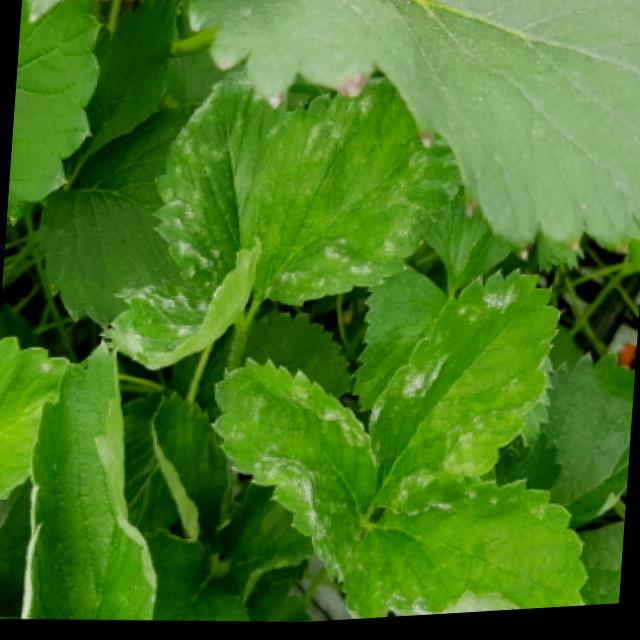Powdery Mildew Leaf: (219, 67, 461, 310), (364, 272, 560, 520), (19, 337, 158, 622), (208, 357, 375, 585), (338, 484, 589, 623), (98, 240, 259, 373), (149, 71, 247, 286)
